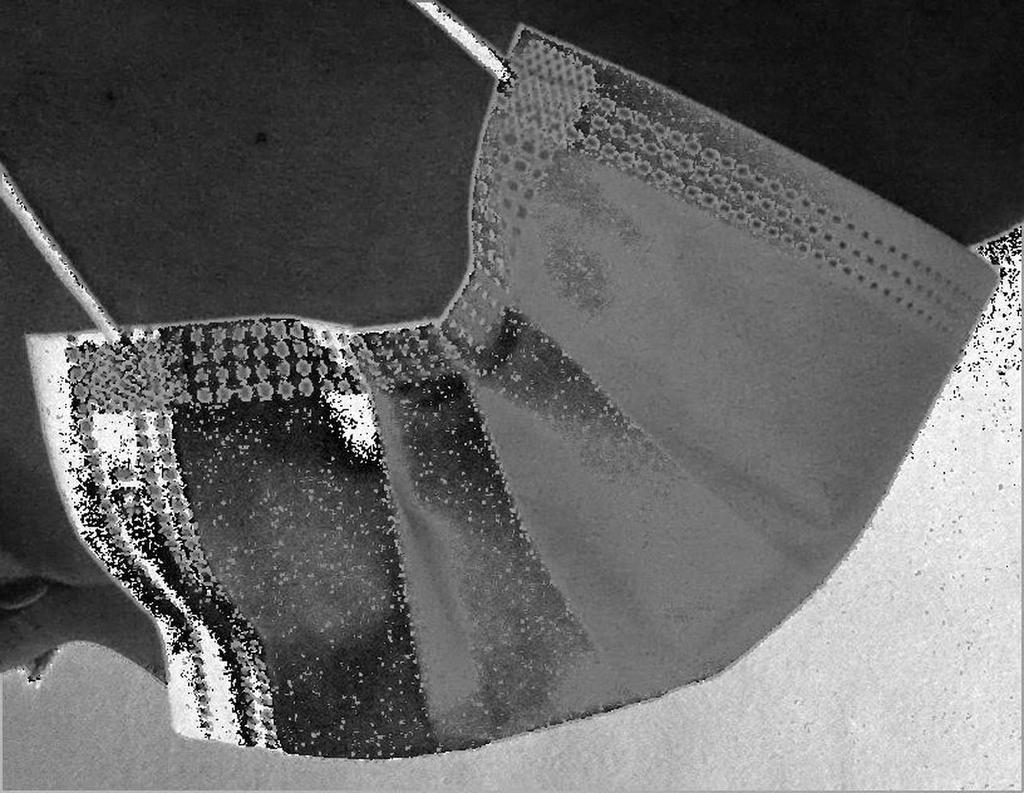Low GSM: (21, 14, 999, 766)
